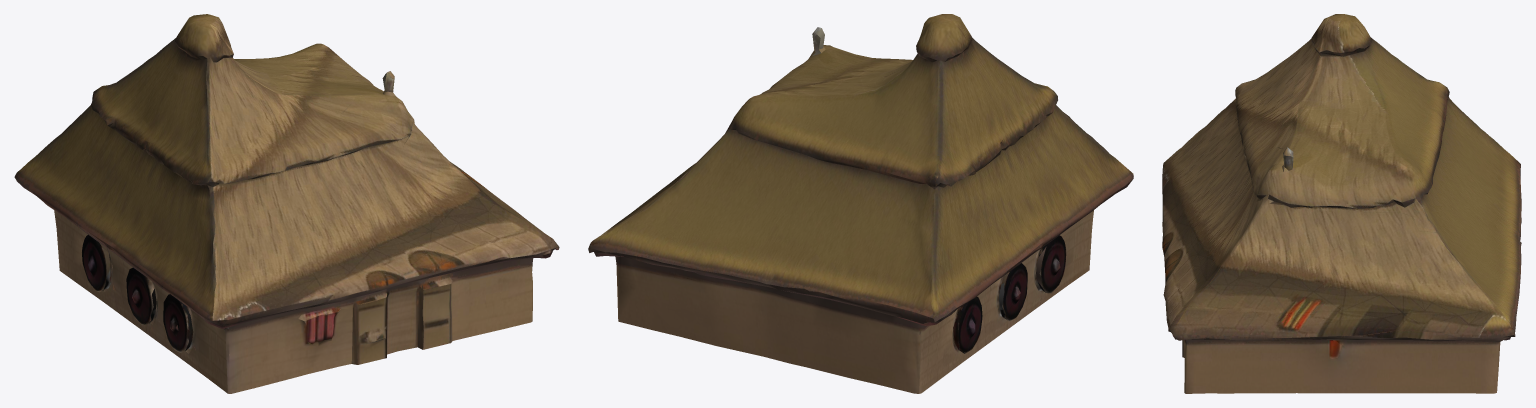
Rendered from etiopia_cuartel.glb.
3 renders of one model, left to right at view 1: azimuth 30°, elevation 25°; view 2: azimuth 150°, elevation 25°; view 3: azimuth 270°, elevation 25°, orthographic. The views are drawn at different scales.
Parts seen in each view (by area): view 1: geometry_0; view 2: geometry_0; view 3: geometry_0.
Boxes of the visible parts, x1,y1,x2,y2 form: geometry_0: (14, 14, 559, 393); geometry_0: (588, 14, 1133, 393); geometry_0: (1162, 14, 1521, 393).
Bounding box in the file's own units: 2.4 × 1.9 × 2.29.
1 material, 1 textured.
